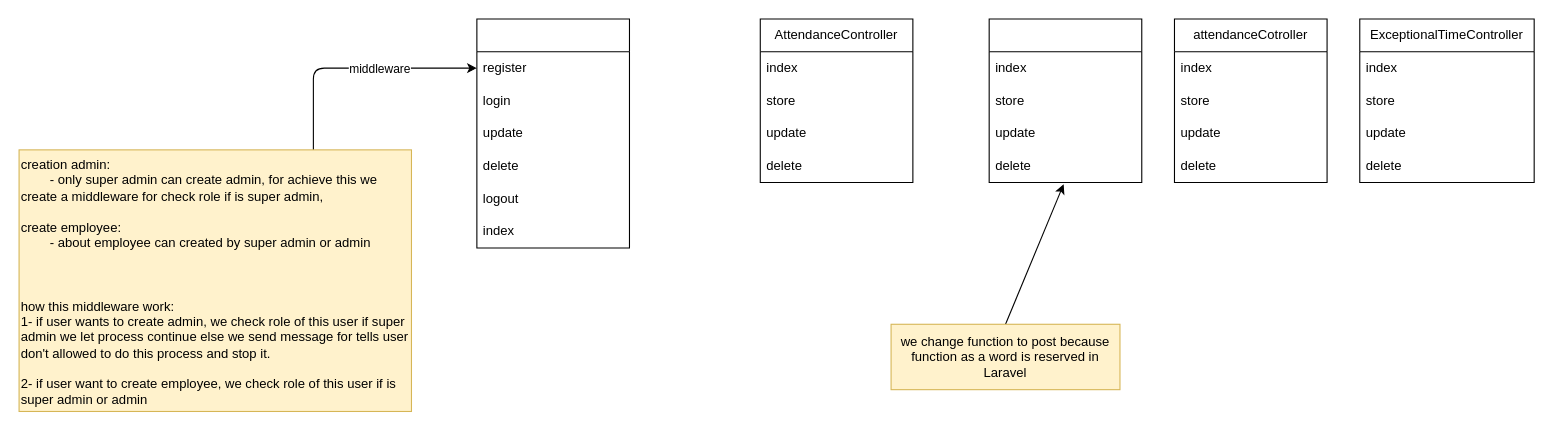
This 1553x431 diagram has some shape labels left out. The shapes that lost their labels are listed below. From the top down, each one's box as (x1, y1, x2, y2) in pixels, then its label:
(988, 18, 1142, 183): PostController
(476, 18, 629, 248): UserController
